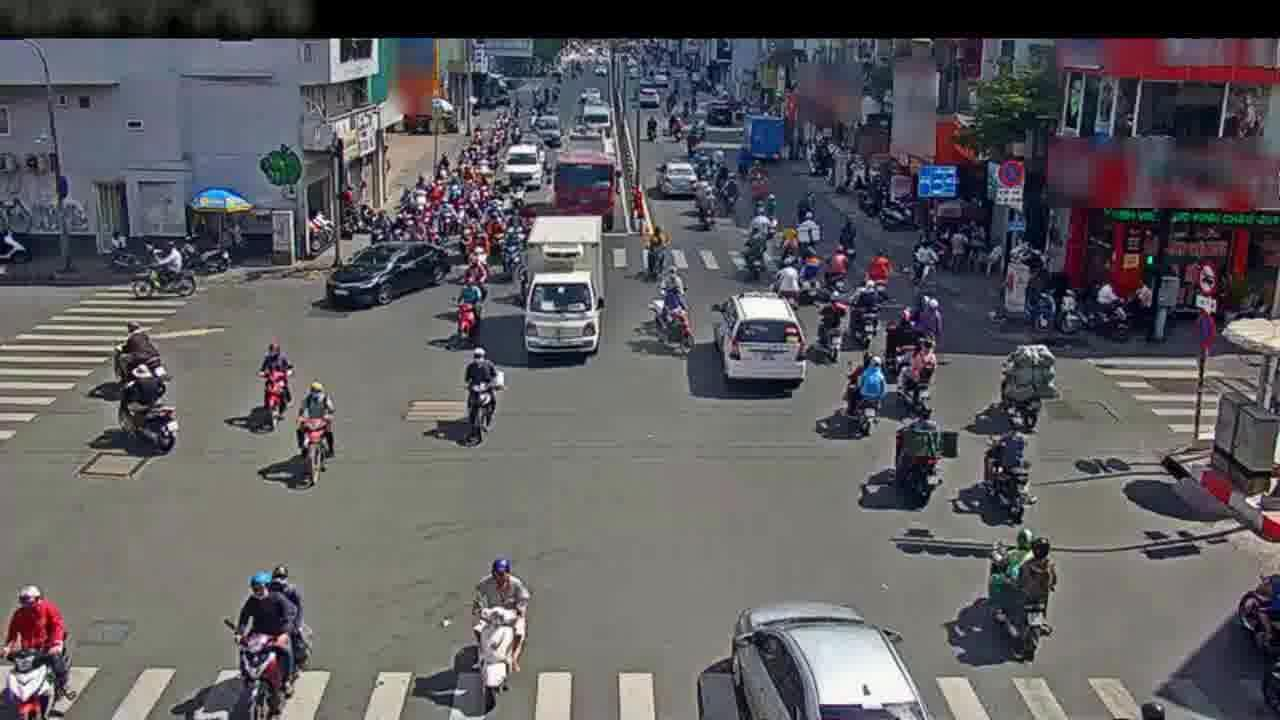8: (524, 212, 609, 361), (559, 151, 611, 218)
container: (726, 597, 931, 720), (710, 290, 807, 380), (324, 243, 444, 304), (654, 158, 697, 205), (503, 141, 541, 182)
motorbike: (231, 569, 301, 718), (982, 527, 1050, 663), (465, 559, 524, 707), (5, 593, 79, 711), (113, 354, 179, 456), (982, 420, 1029, 524), (126, 240, 200, 306), (892, 405, 940, 506), (293, 381, 339, 485), (108, 315, 163, 395), (461, 343, 501, 445), (1243, 553, 1280, 663), (1001, 347, 1044, 438), (842, 350, 881, 441), (652, 277, 693, 357), (257, 340, 293, 431), (897, 328, 930, 420), (845, 279, 882, 352), (812, 291, 844, 371), (451, 275, 483, 352), (637, 220, 671, 287), (883, 309, 915, 376), (738, 220, 767, 288), (910, 234, 938, 288), (909, 293, 940, 336), (693, 186, 716, 239), (778, 259, 799, 312), (824, 246, 847, 290), (504, 226, 524, 275), (870, 250, 889, 299), (468, 229, 488, 274), (801, 252, 821, 295)
